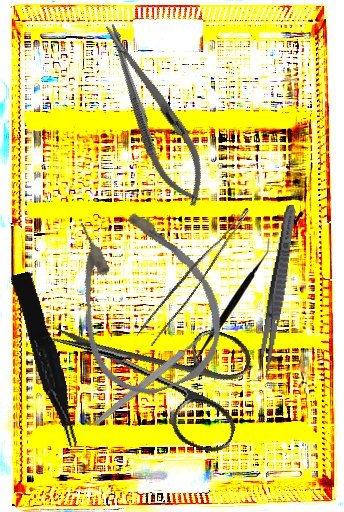Cannula: (47, 187, 240, 410)
Dressing Forceps: (255, 203, 300, 379)
Iris Scissors: (29, 279, 264, 458)
Needle Holder: (88, 13, 220, 215)
Scalpel Handle: (92, 335, 204, 427)
Spatula Surgical: (194, 238, 270, 376)
Tissue Forceps: (136, 196, 250, 350), (10, 269, 82, 452)
